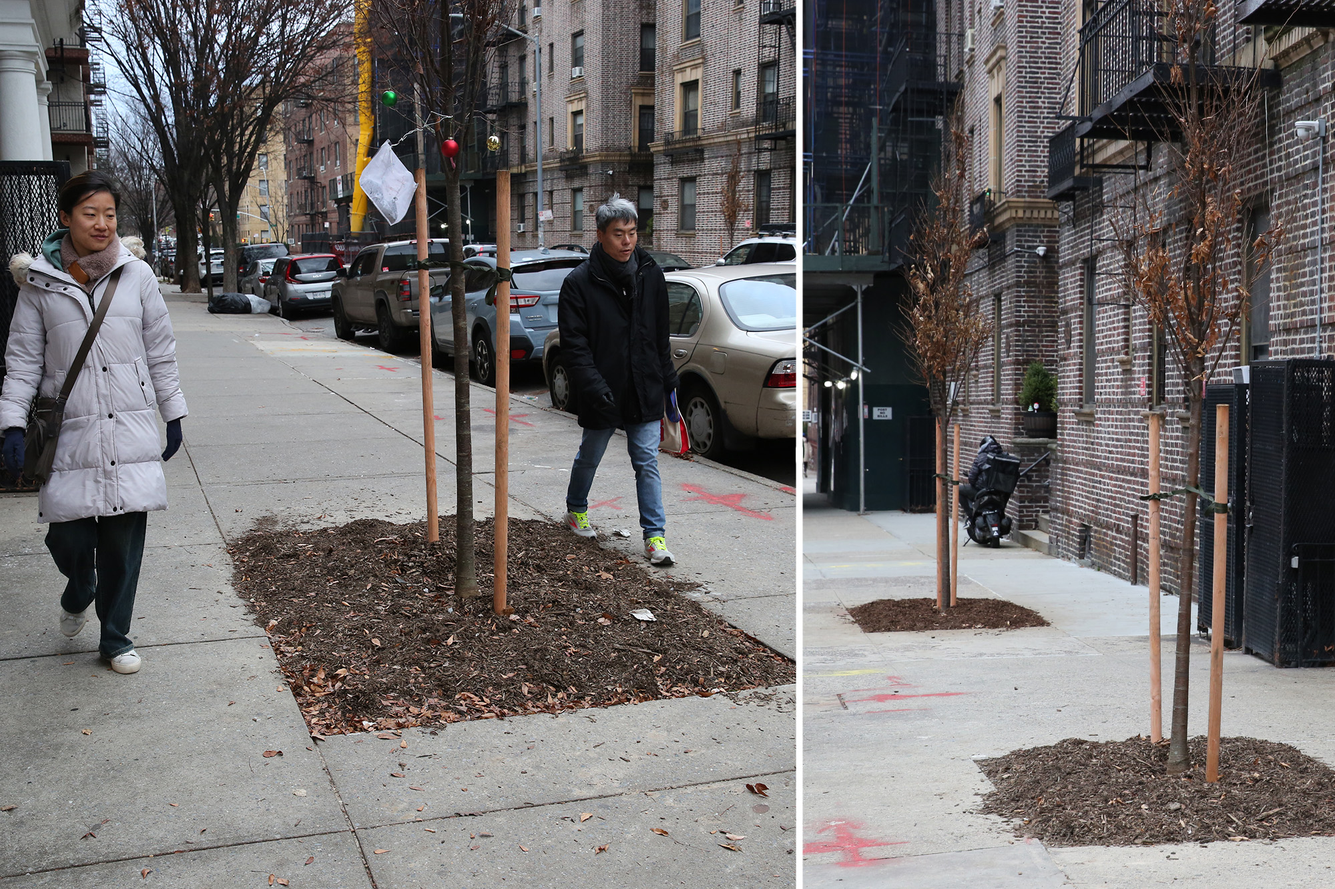Person: (1, 159, 208, 698), (537, 147, 722, 600)
